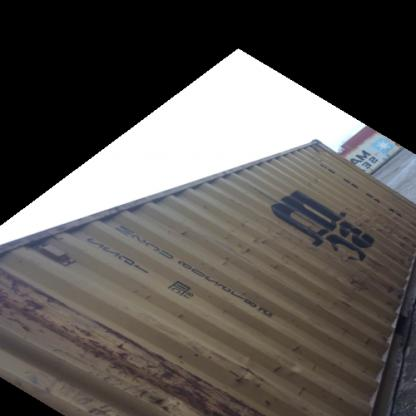Damage: (57, 318, 259, 414), (333, 248, 384, 312), (0, 274, 48, 330), (220, 231, 270, 259), (343, 206, 397, 230)
